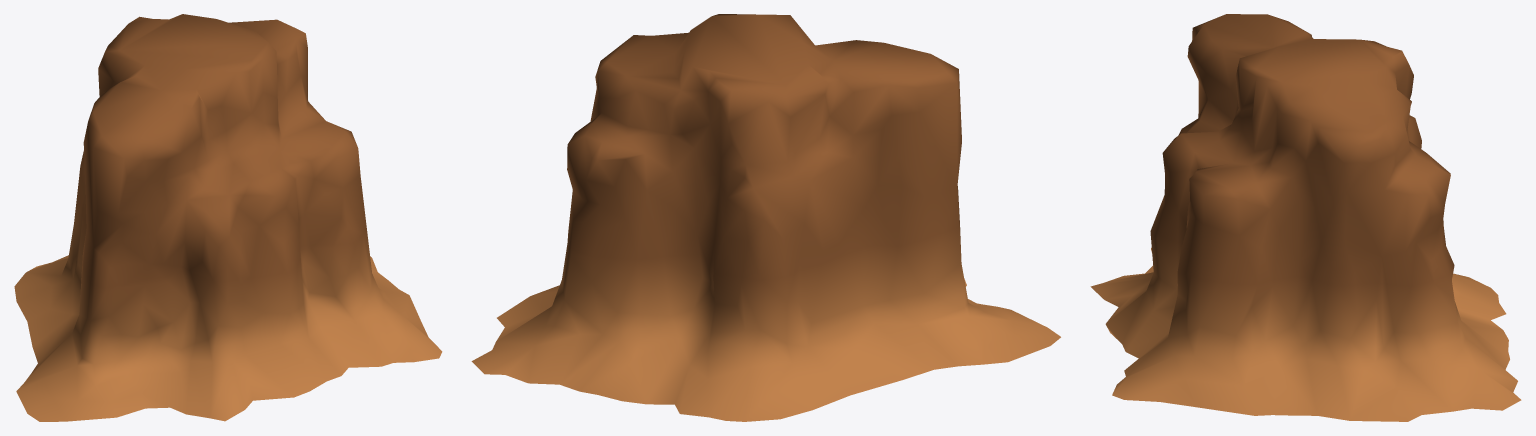
Rendered from Mountain 5.glb.
3 renders of one model, left to right at view 1: azimuth 30°, elevation 25°; view 2: azimuth 150°, elevation 25°; view 3: azimuth 270°, elevation 25°, orthographic. The views are drawn at different scales.
Parts seen in each view (by area): view 1: Mountain5; view 2: Mountain5; view 3: Mountain5.
Part boxes in pixels (x1,y1,x2,y2): Mountain5: (14, 14, 442, 421); Mountain5: (471, 14, 1060, 421); Mountain5: (1090, 14, 1521, 421).
Size of what is drawn, in the model's own units: 15.16 by 9.44 by 13.56.
Materials: 1 (1 with a texture image).
